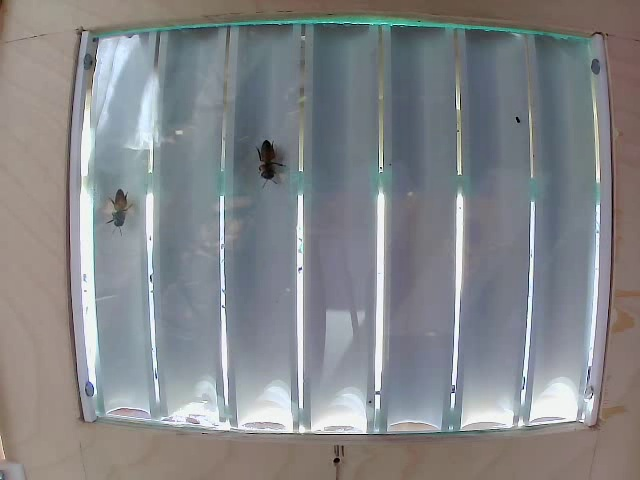bee: (251, 125, 287, 191), (111, 182, 149, 226)
